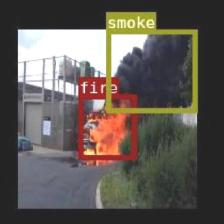fire: (78, 94, 135, 158)
smoke: (106, 28, 196, 112)
